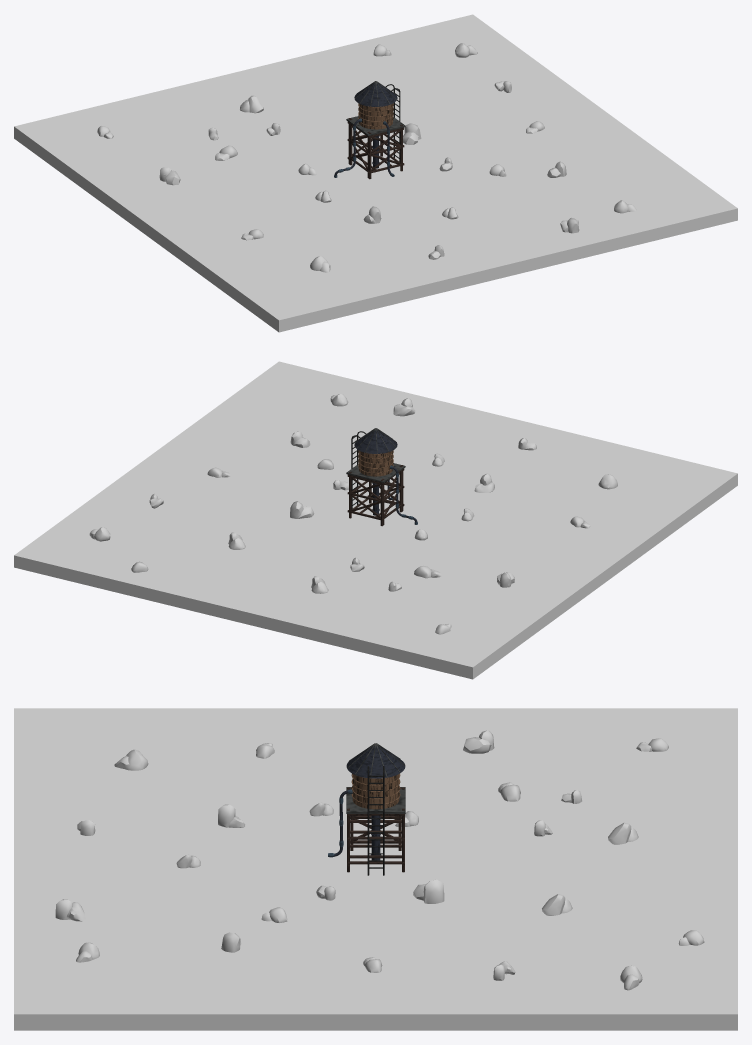
File: WATER TANK.fbx
The picture shows the model from 3 angles, top to bottom: view 1: azimuth 30°, elevation 25°; view 2: azimuth 150°, elevation 25°; view 3: azimuth 270°, elevation 25°; orthographic projection. The views are drawn at different scales.
Parts seen in each view (by area): view 1: GROUND, COLUMN, WATER TANK; view 2: GROUND, COLUMN, WATER TANK; view 3: GROUND, WATER TANK, COLUMN, LADDAR, TANK BOARD.
Part boxes in pixels (x1,y1,x2,y2): GROUND: (14, 14, 737, 332); COLUMN: (347, 118, 404, 179); WATER TANK: (354, 81, 397, 129); GROUND: (14, 361, 737, 679); COLUMN: (347, 465, 404, 526); WATER TANK: (354, 428, 397, 476); GROUND: (14, 708, 737, 1030); WATER TANK: (346, 743, 405, 809); COLUMN: (347, 787, 404, 872); LADDAR: (367, 766, 384, 875); TANK BOARD: (346, 787, 405, 813).
Size of the model in its own units: 4000 by 818 by 4000.
